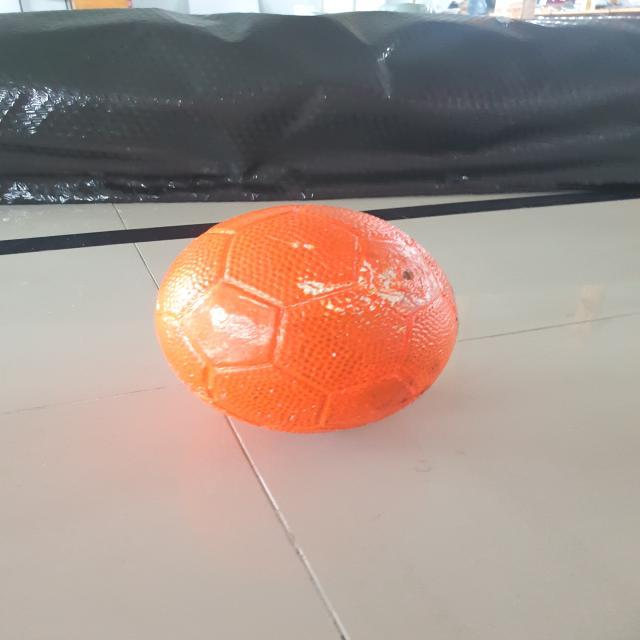bola: (140, 190, 470, 442)
